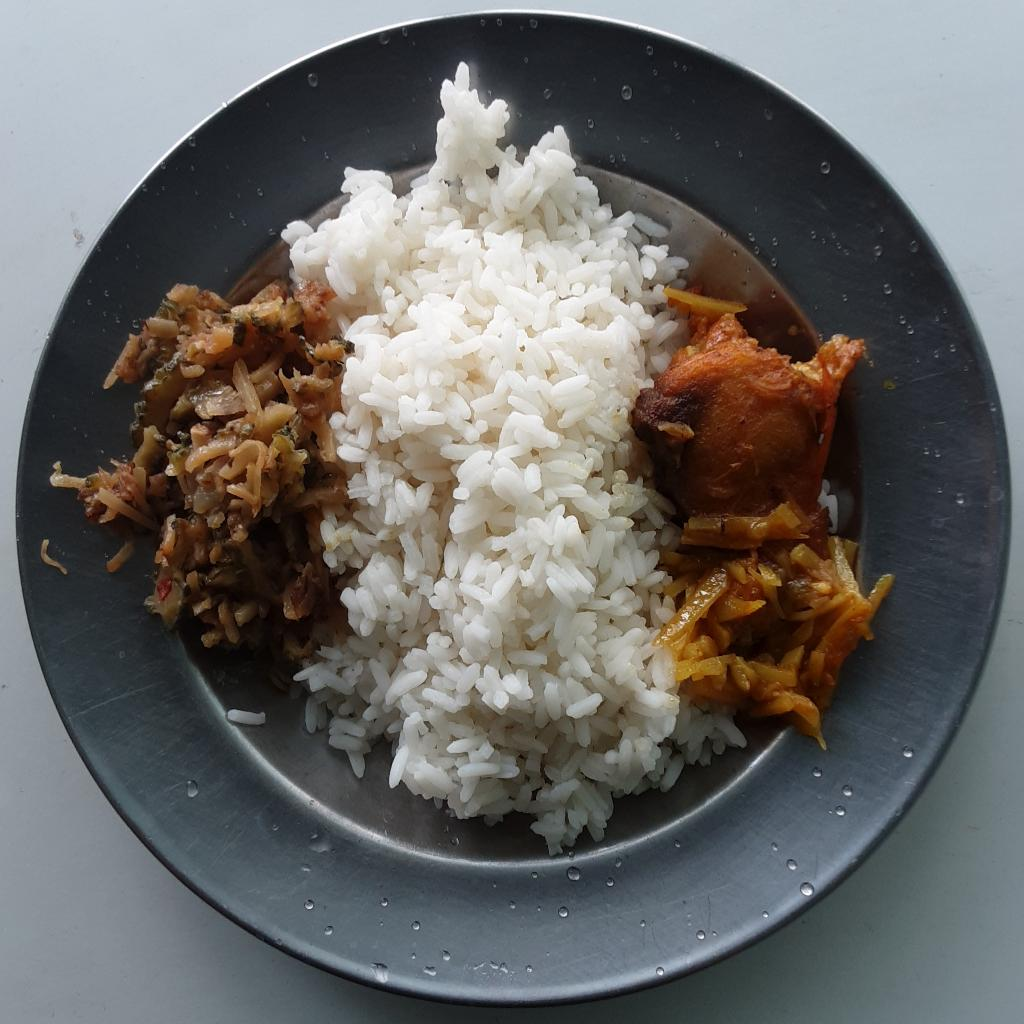fish: (630, 314, 877, 518)
korola-vaji: (45, 269, 354, 658)
potato: (653, 495, 897, 749)
rice: (281, 62, 746, 859)
